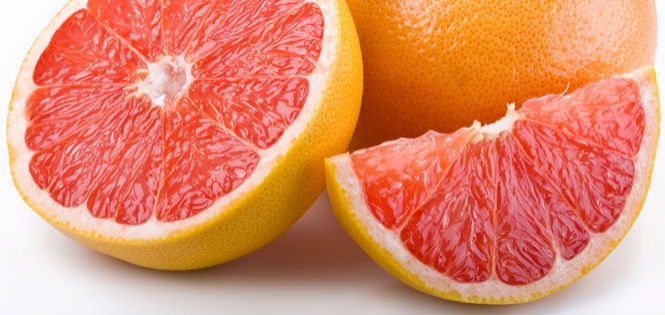grapefruit: (15, 2, 349, 256), (328, 94, 645, 304), (361, 1, 664, 103)
